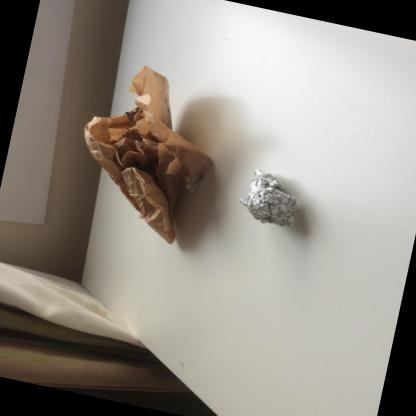Metal: (238, 168, 297, 226), (185, 166, 205, 191)
Paper: (84, 65, 211, 243)
